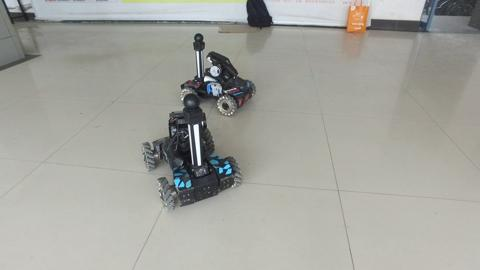chariot: (140, 93, 236, 212), (177, 29, 253, 115)
